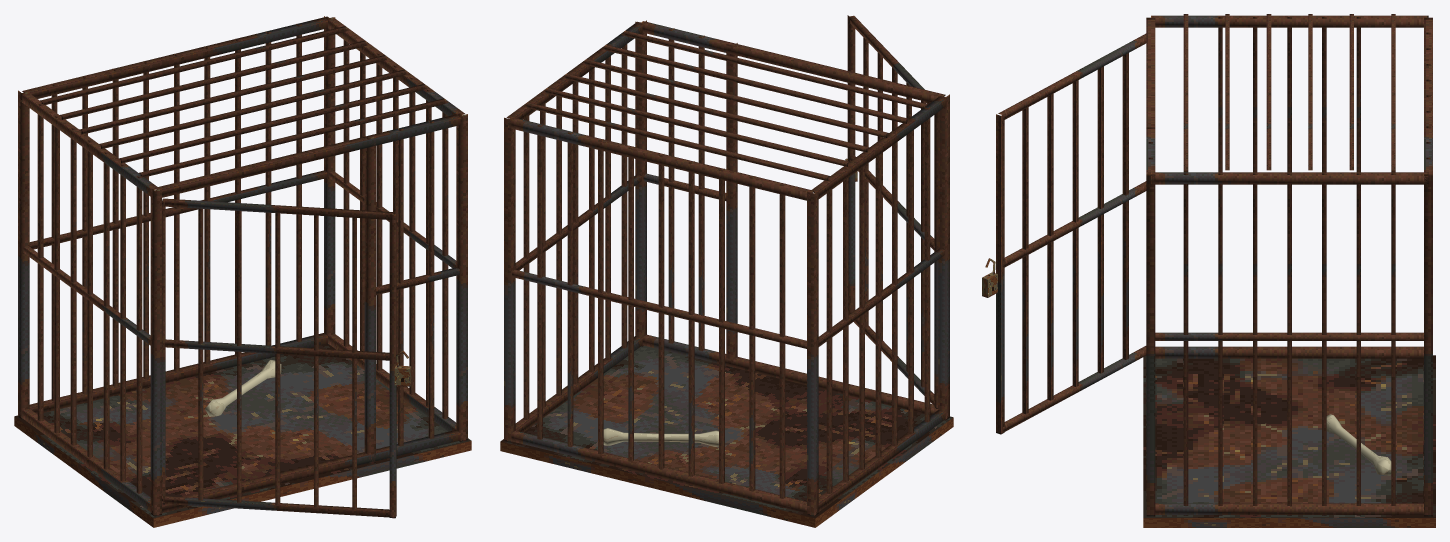
The model's file is cage_metal.glb.
3 views of the same model, side by side, from view 1: azimuth 30°, elevation 25°; view 2: azimuth 150°, elevation 25°; view 3: azimuth 270°, elevation 25° (orthographic). The views are drawn at different scales.
Parts seen in each view (by area): view 1: cage_metal; view 2: cage_metal; view 3: cage_metal.
Part boxes in pixels (left/top/right/bottom): cage_metal: left=14, top=16, right=471, bottom=527; cage_metal: left=500, top=15, right=953, bottom=527; cage_metal: left=982, top=14, right=1435, bottom=527.
Bounding box in the file's own units: 1.04 × 1.06 × 1.23.
1 material, 1 textured.
